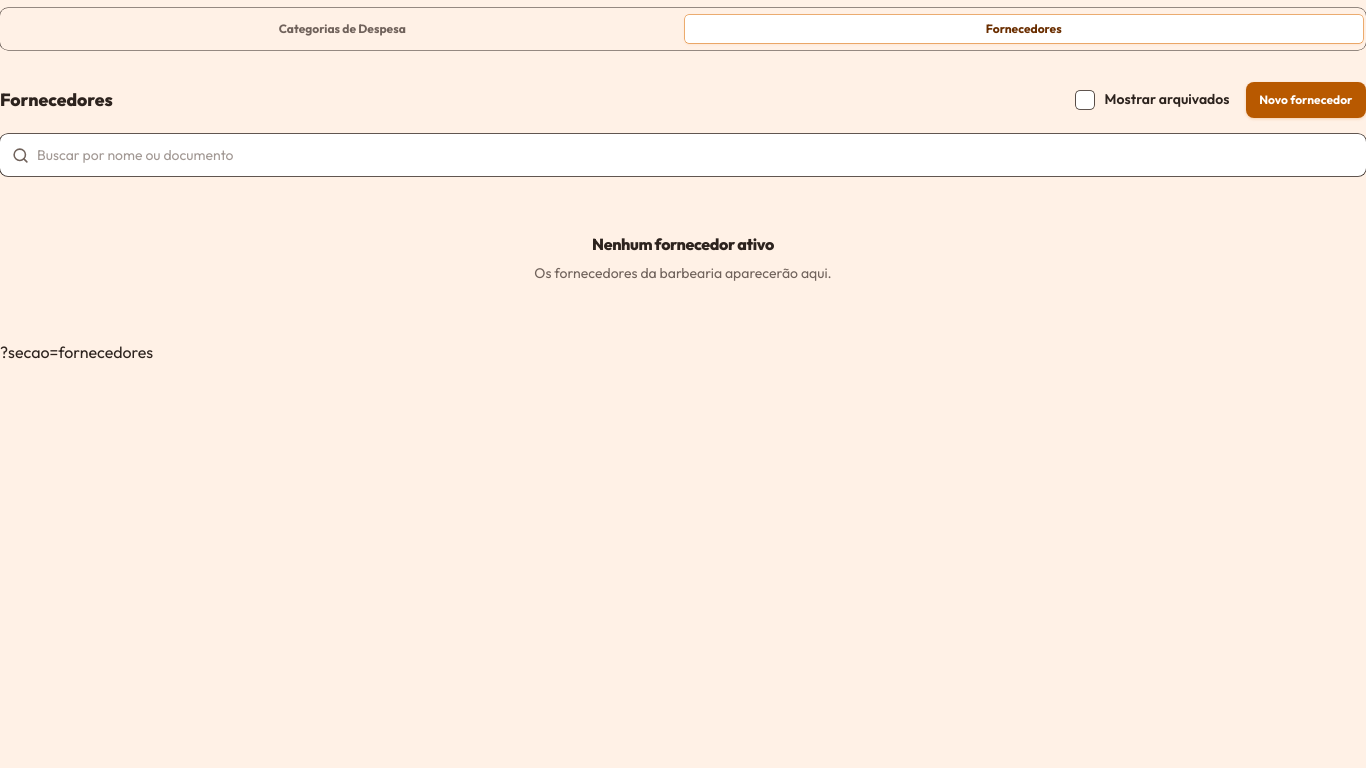
PlanoContasTab (adaptador em memória) › cria um novo fornecedor pelo Drawer
Expected: the heading "Nenhum fornecedor ativo" is shown, [592,232,774,256]
Click the button "Novo fornecedor" at (1306, 100), box [1246,82,1365,118]
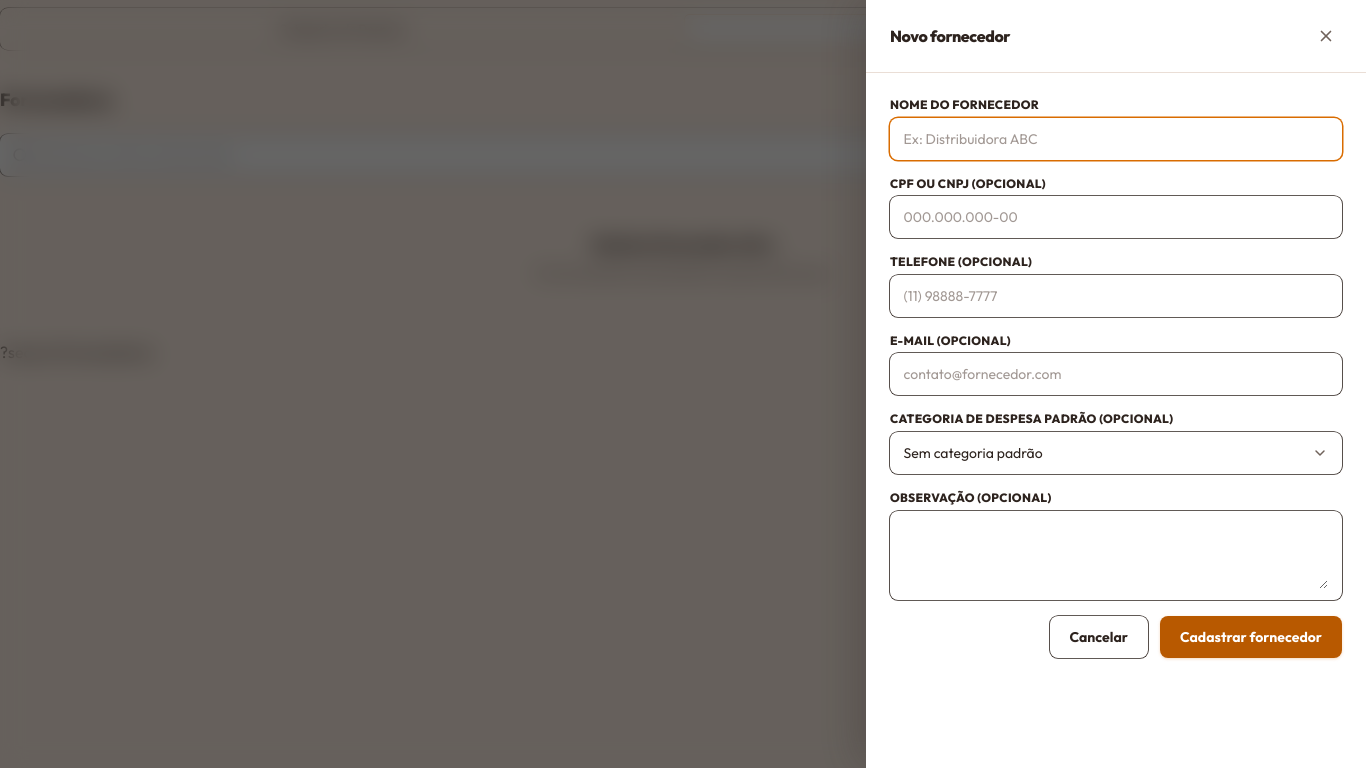
Type "Distribuidora ABC" into the field labelled "Nome do fornecedor" at (1116, 139), box [904,121,1328,157]
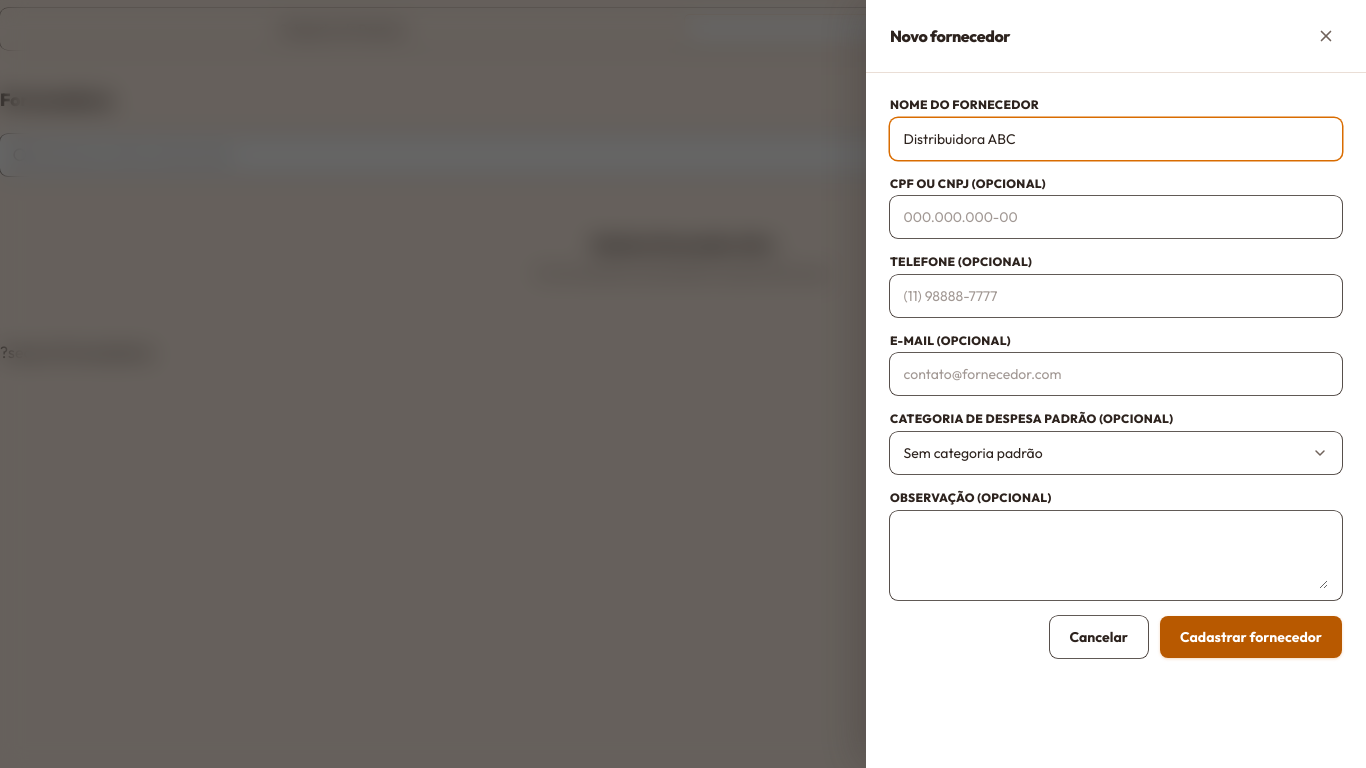
Click the button "Cadastrar fornecedor" at (1251, 637), box [1160,616,1342,658]
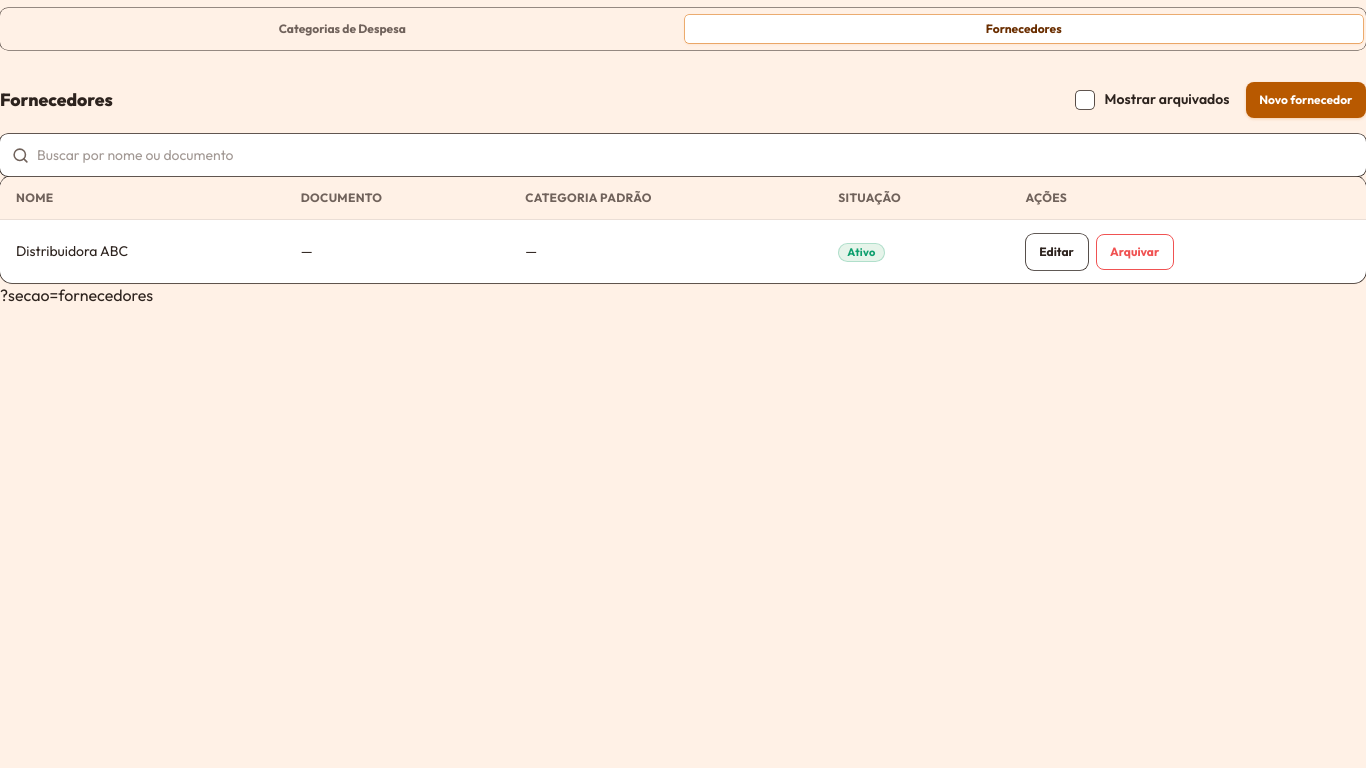
Expected: the text "Distribuidora ABC" is shown, [0,220,285,283]
Expected: the label labelled "Nome do fornecedor" is gone
